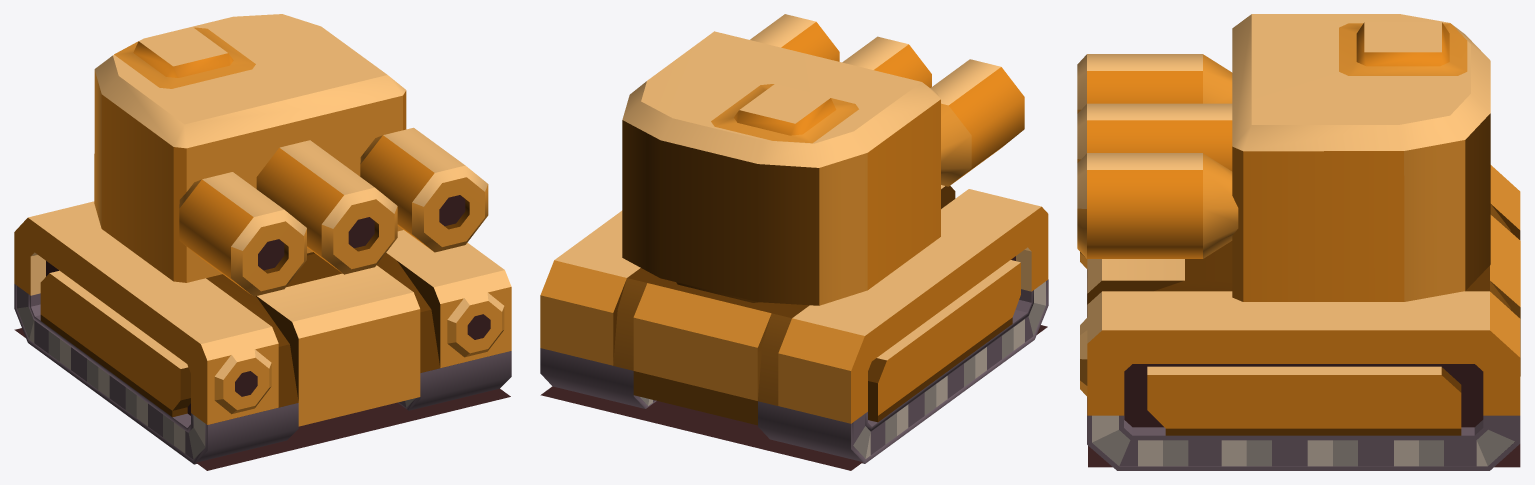
Rendered from MegaTankMesh.AmberBlaze.glb.
3 renders of one model, left to right at view 1: azimuth 30°, elevation 25°; view 2: azimuth 150°, elevation 25°; view 3: azimuth 270°, elevation 25°, orthographic. The views are drawn at different scales.
Parts seen in each view (by area): view 1: MegaTankMesh.AmberBlaze; view 2: MegaTankMesh.AmberBlaze; view 3: MegaTankMesh.AmberBlaze.
Part boxes in pixels (box(x1,y1,x2,y2)): MegaTankMesh.AmberBlaze: box(14, 14, 511, 470); MegaTankMesh.AmberBlaze: box(540, 14, 1048, 470); MegaTankMesh.AmberBlaze: box(1077, 14, 1520, 470).
Bounding box in the file's own units: 2 × 1.86 × 2.25.
Materials: 1 (1 with a texture image).
